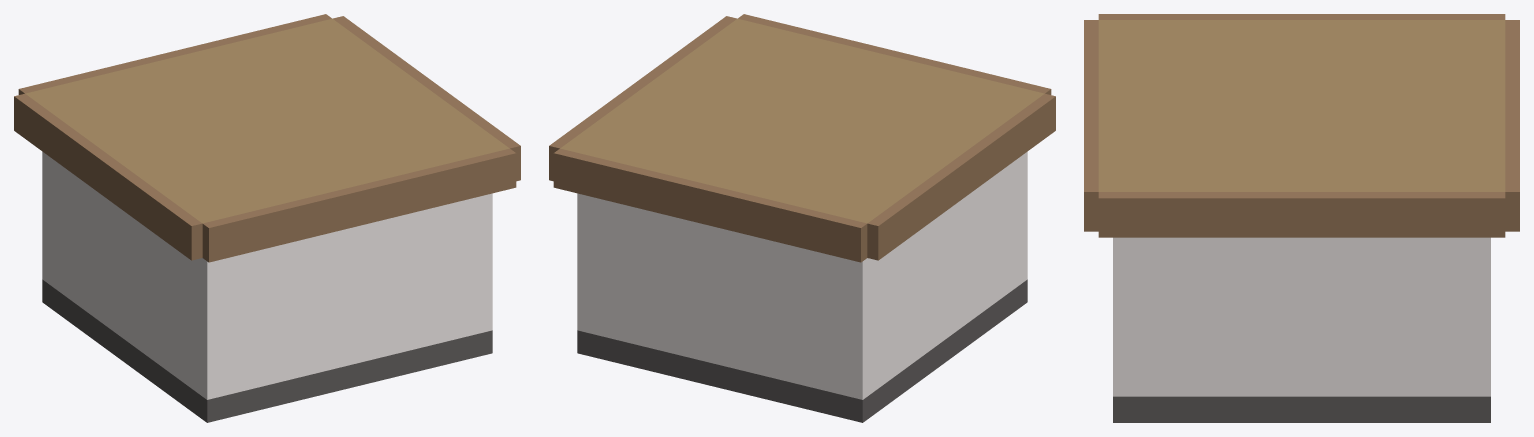
File: Table.obj
3 renders of one model, left to right at view 1: azimuth 30°, elevation 25°; view 2: azimuth 150°, elevation 25°; view 3: azimuth 270°, elevation 25°, orthographic. The views are drawn at different scales.
Bounding box in the file's own units: 3 × 1.8 × 3.
Materials: 1 (1 with a texture image).
